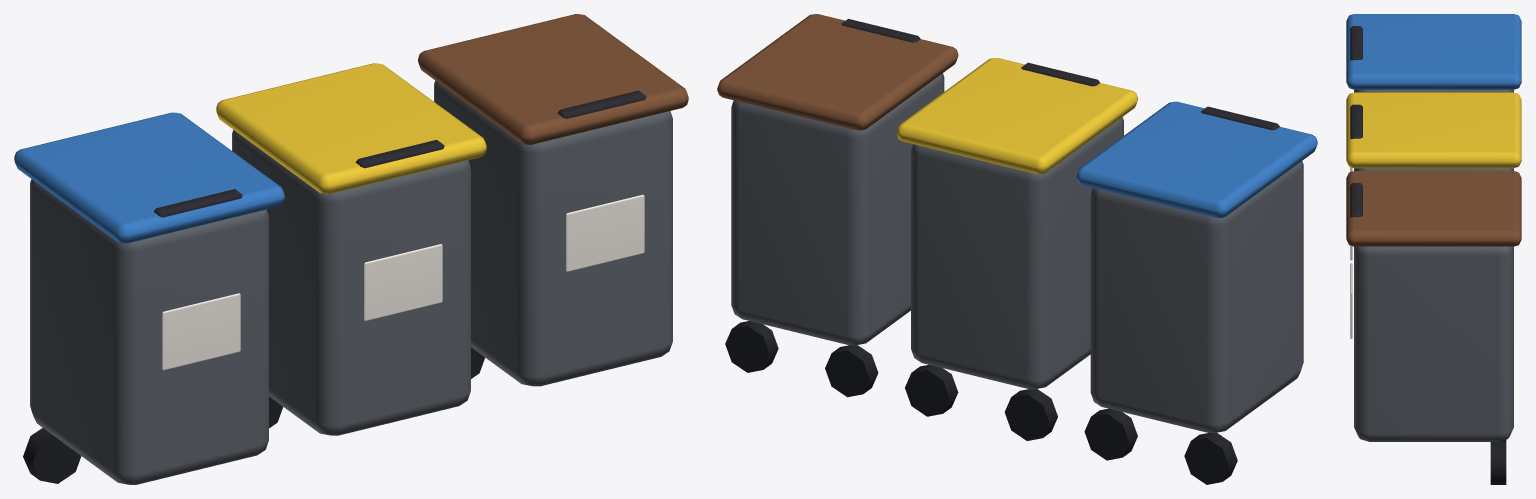
The model's file is welt_tonnen.glb.
3 views of the same model, side by side, from view 1: azimuth 30°, elevation 25°; view 2: azimuth 150°, elevation 25°; view 3: azimuth 270°, elevation 25° (orthographic). The views are drawn at different scales.
Parts seen in each view (by area): view 1: welt_tonnen; view 2: welt_tonnen; view 3: welt_tonnen.
Boxes of the visible parts, x1,y1,x2,y2 form: welt_tonnen: [14, 14, 688, 484]; welt_tonnen: [717, 14, 1317, 484]; welt_tonnen: [1346, 14, 1521, 484].
Bounding box in the file's own units: 2.04 × 1.13 × 0.68.
